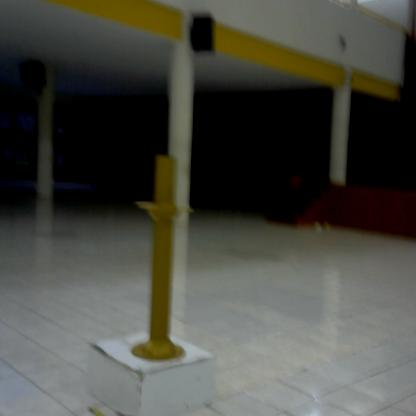pole: (128, 146, 200, 372)
